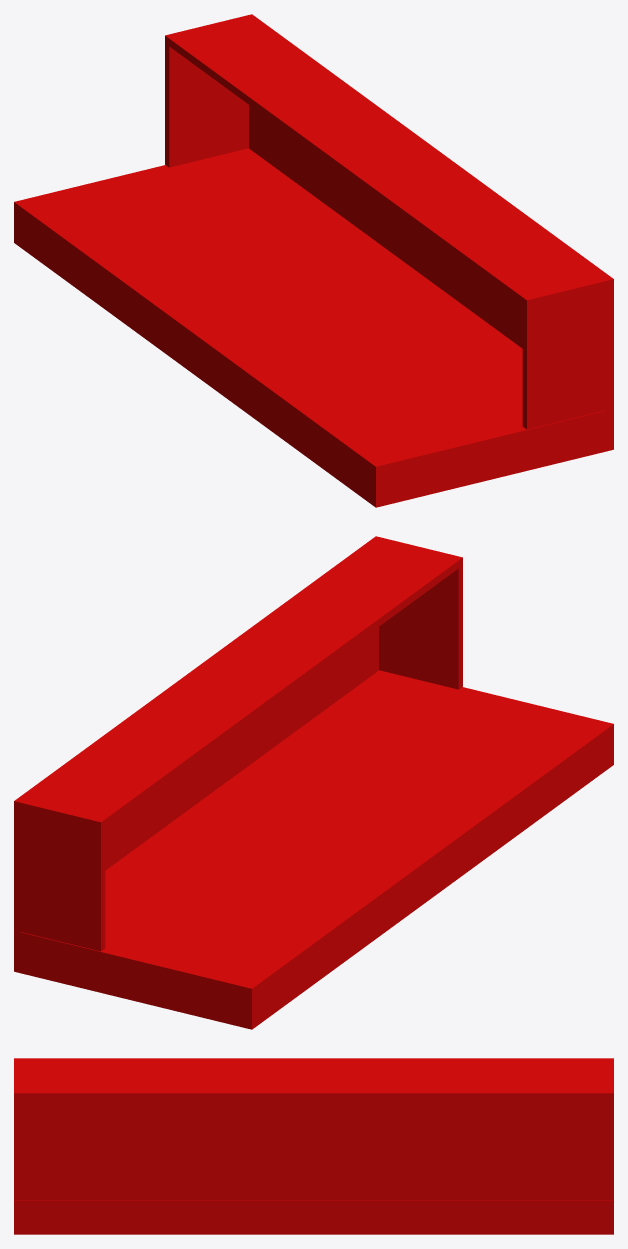
The model's file is MainUmpireDeskCollider.fbx.
The picture shows the model from 3 angles, top to bottom: view 1: azimuth 30°, elevation 25°; view 2: azimuth 150°, elevation 25°; view 3: azimuth 270°, elevation 25°; orthographic projection. The views are drawn at different scales.
Parts seen in each view (by area): view 1: MainUmpireDeskCollision; view 2: MainUmpireDeskCollision; view 3: MainUmpireDeskCollision.
Boxes of the visible parts, <box> form: MainUmpireDeskCollision: <box>14,14,613,507</box>; MainUmpireDeskCollision: <box>14,536,613,1029</box>; MainUmpireDeskCollision: <box>14,1058,613,1234</box>.
Bounding box in the file's own units: 158 × 108 × 417.
